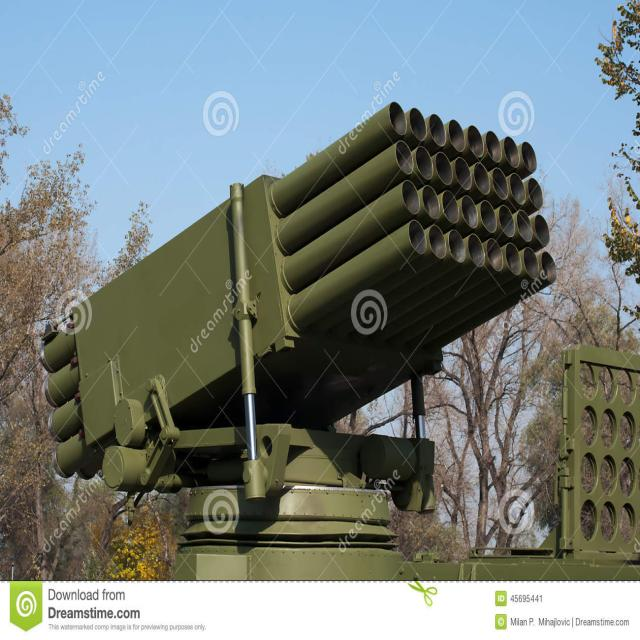bazooka: (25, 74, 601, 555)
